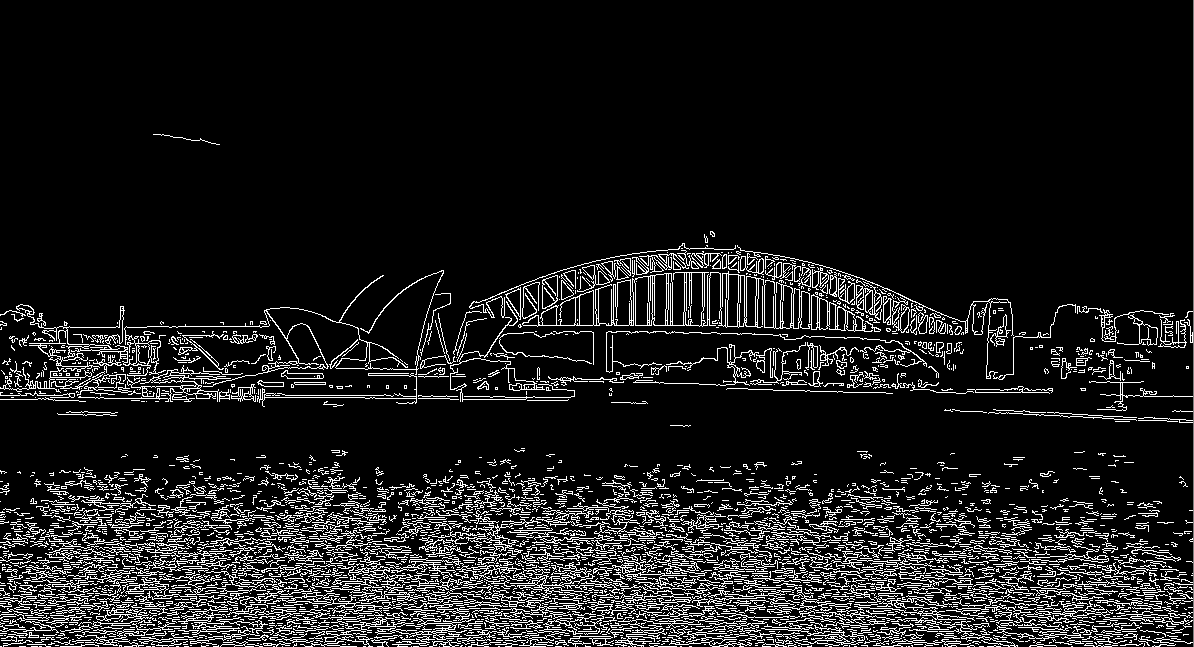opera house: (235, 238, 543, 396)
